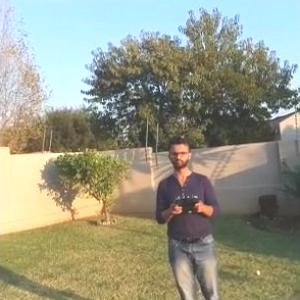follow: (153, 129, 233, 299)
